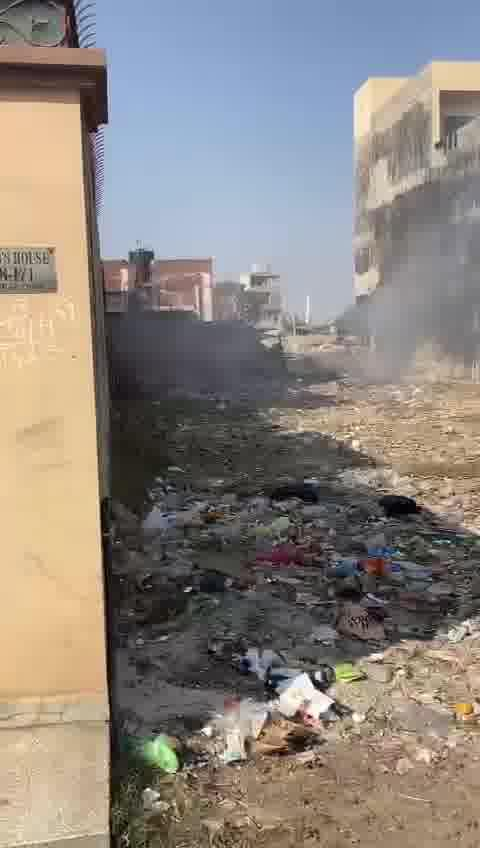garbage: (107, 390, 480, 848)
